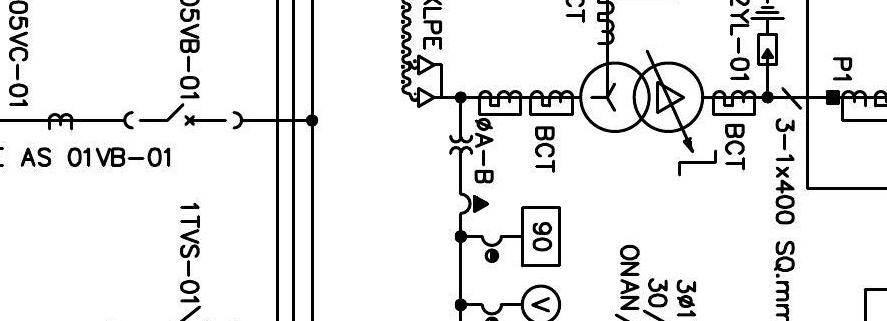11522_tx_dyn1: (578, 61, 705, 134)
22_breaker: (123, 102, 244, 131)
terminator_double: (417, 54, 444, 108)
